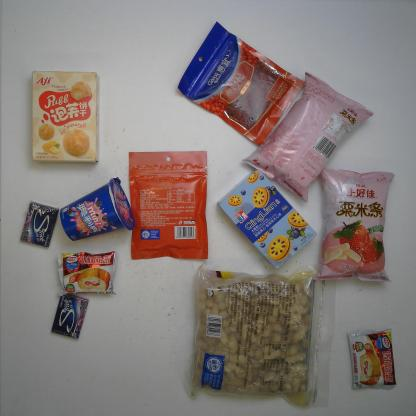Dessert: (216, 168, 317, 270), (31, 70, 100, 163), (60, 176, 136, 241), (347, 328, 396, 390), (57, 250, 118, 297)
Dried Food: (184, 261, 336, 409)
Dried Fruit: (177, 21, 305, 146), (128, 150, 208, 260)
Gum: (20, 200, 59, 248), (50, 293, 88, 340)
Puffed Food: (242, 71, 374, 203), (312, 167, 396, 282)
